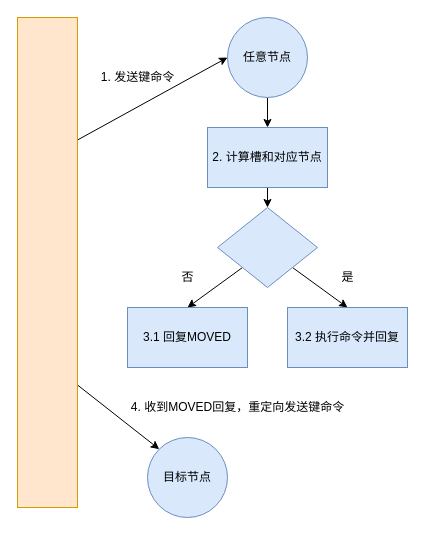
This 425x535 diagram has some shape labels left out. The shapes that lost their labels are listed below. From the top down, each one's centre as x and y in pixels, then its label:
At (47,262): "客户端".
At (267,247): "是否自身处理".
